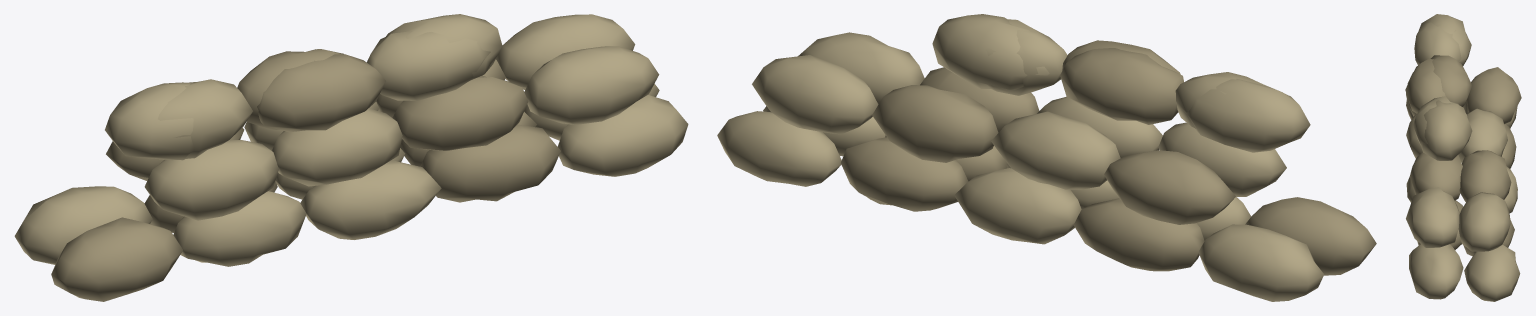
File: v_sandbags.glb
3 renders of one model, left to right at view 1: azimuth 30°, elevation 25°; view 2: azimuth 150°, elevation 25°; view 3: azimuth 270°, elevation 25°, orthographic. The views are drawn at different scales.
Parts seen in each view (by area): view 1: Sandbags; view 2: Sandbags; view 3: Sandbags.
Part boxes in pixels (bbox=[...]): Sandbags: bbox=[14, 14, 688, 301]; Sandbags: bbox=[717, 14, 1376, 301]; Sandbags: bbox=[1405, 14, 1521, 301].
Size of what is drawn, in the model's own units: 3.04 by 0.8592 by 0.7146.
